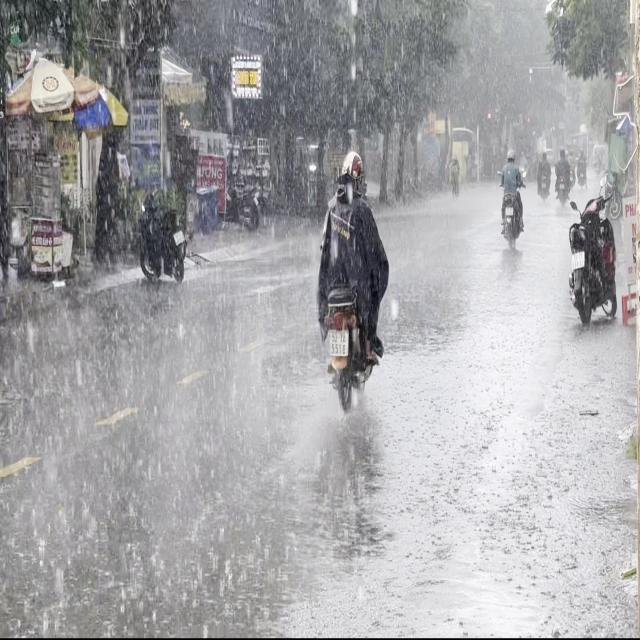helmet: (340, 150, 363, 192)
licenseplate: (313, 146, 390, 428)
nohelmet: (329, 331, 348, 356), (572, 251, 584, 267)
